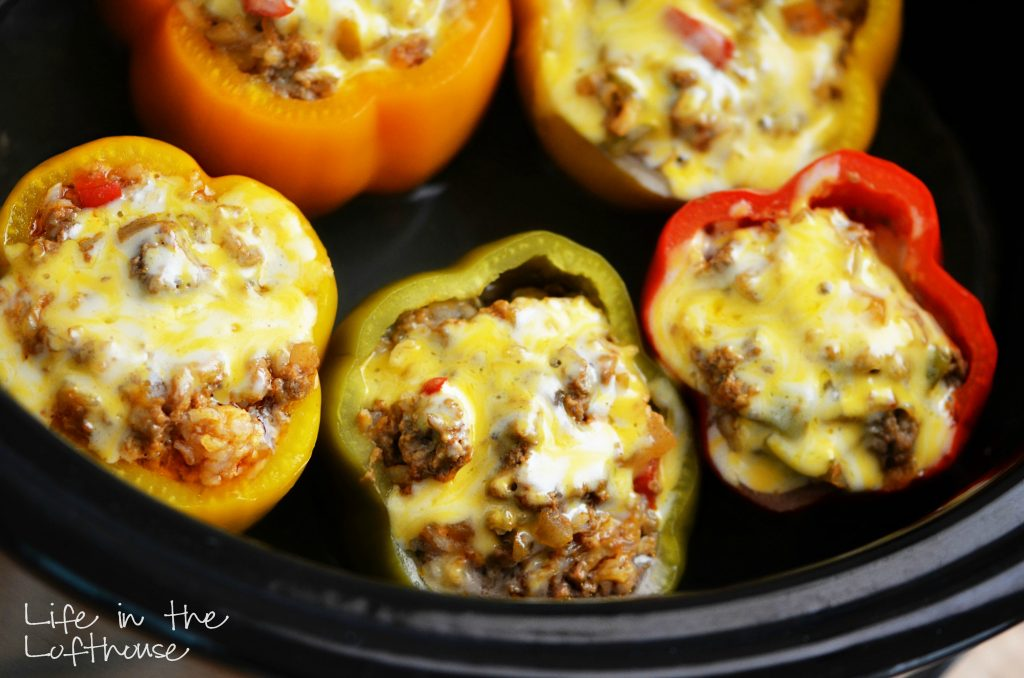ground_beef: (37, 200, 256, 417), (423, 335, 632, 527), (622, 15, 805, 168)
